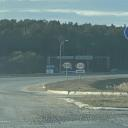speed_limit_100: (63, 62, 72, 69)
speed_limit_120: (76, 62, 85, 70)
